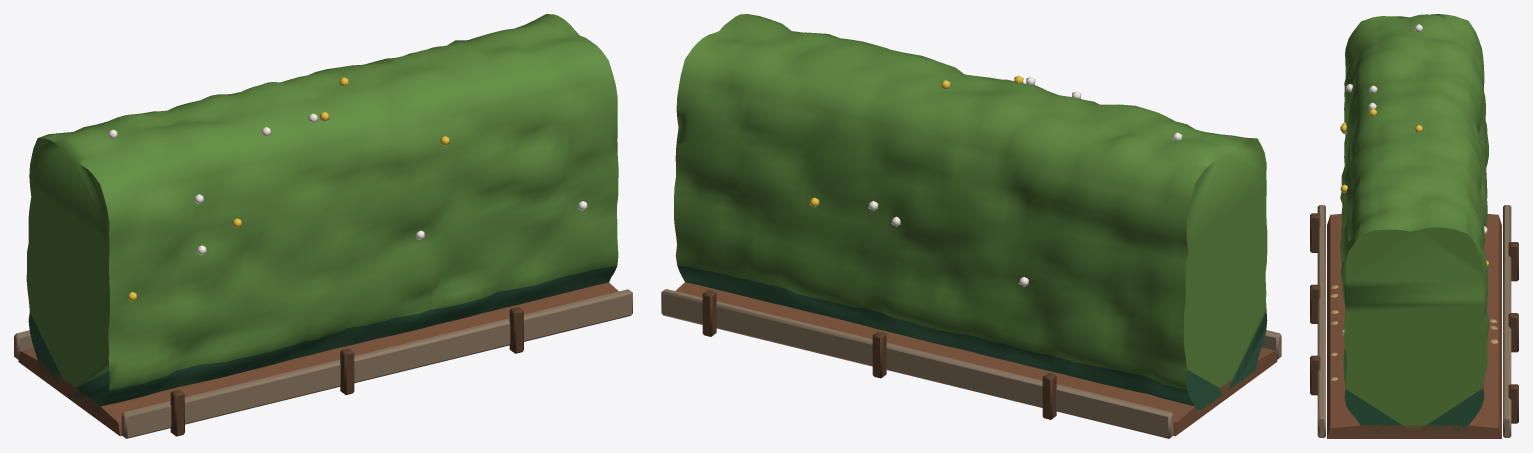
File: deco_hedge_straight.fbx
3 views of the same model, side by side, from view 1: azimuth 30°, elevation 25°; view 2: azimuth 150°, elevation 25°; view 3: azimuth 270°, elevation 25° (orthographic). The views are drawn at different scales.
Parts seen in each view (by area): view 1: Hedge_Straight_Hedge, Hedge_Straight_Base; view 2: Hedge_Straight_Hedge, Hedge_Straight_Base; view 3: Hedge_Straight_Hedge, Hedge_Straight_Base.
Part boxes in pixels (x1,y1,x2,y2): Hedge_Straight_Hedge: (26,14,618,413); Hedge_Straight_Base: (14,282,632,438); Hedge_Straight_Hedge: (674,14,1267,410); Hedge_Straight_Base: (661,282,1281,438); Hedge_Straight_Hedge: (1340,14,1488,432); Hedge_Straight_Base: (1310,205,1518,438).
Size of the model in its own units: 300 by 148 by 124.
